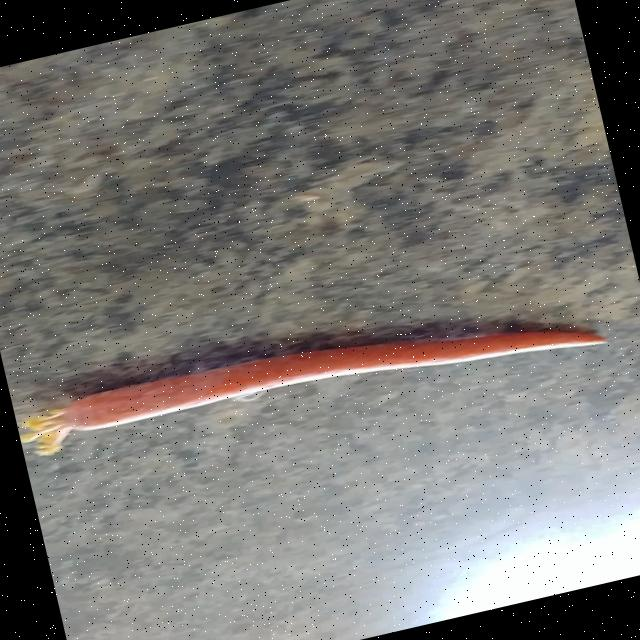carrot: (20, 329, 605, 455)
